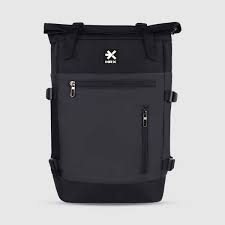backpack: (43, 20, 181, 203)
